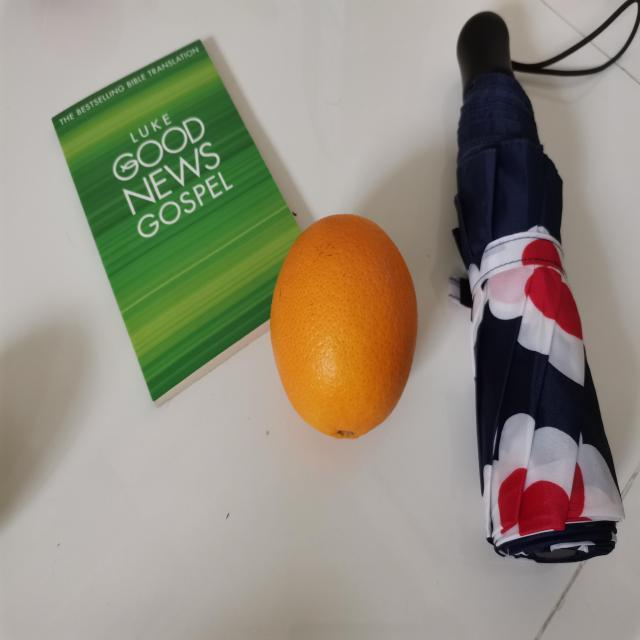Book: (51, 37, 305, 407)
Orange: (268, 214, 423, 440)
